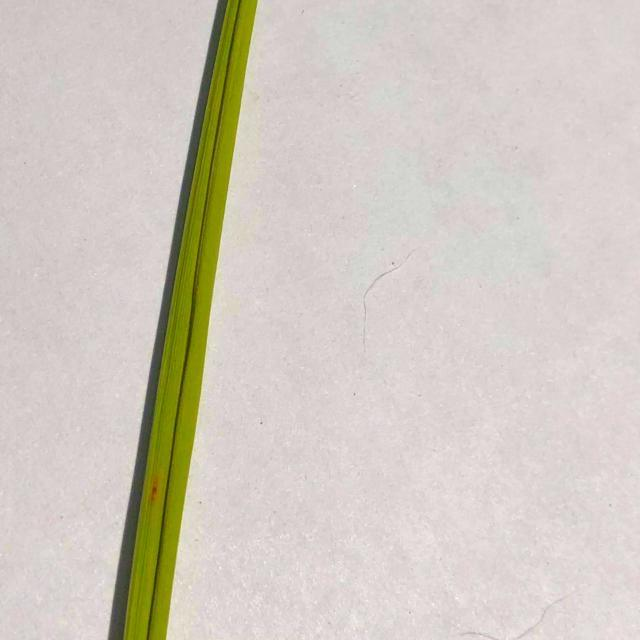brownspots: (144, 476, 164, 514)
